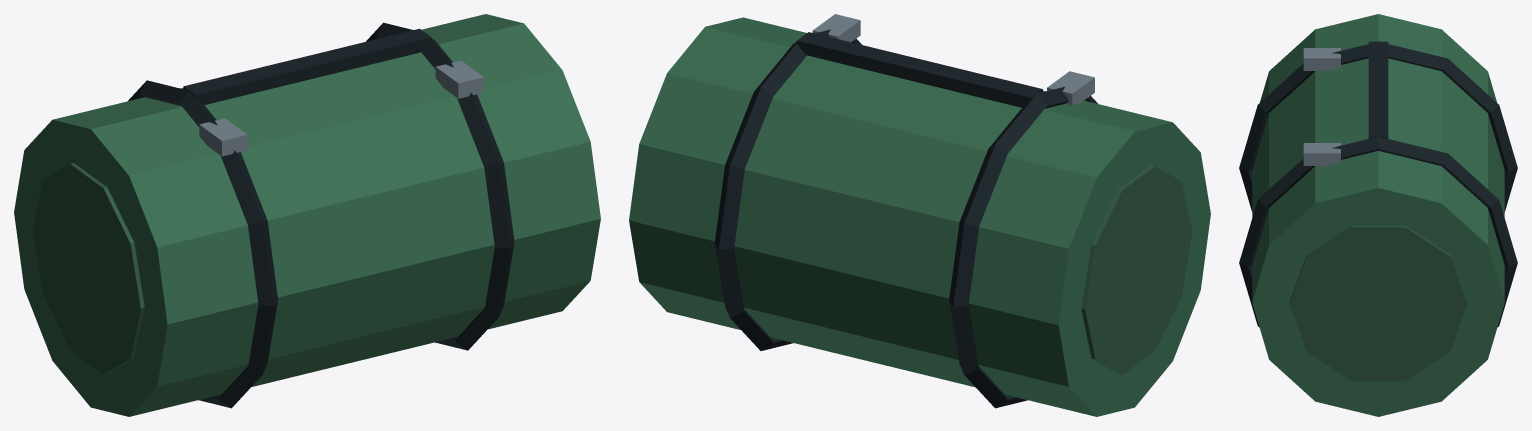
The model's file is b17_strapped_sleeping_bag_roll.glb.
The picture shows the model from 3 angles, left to right: view 1: azimuth 30°, elevation 25°; view 2: azimuth 150°, elevation 25°; view 3: azimuth 270°, elevation 25°; orthographic projection. The views are drawn at different scales.
Visible parts, largest first — view 1: b17_strapped_sleeping_bag_roll; view 2: b17_strapped_sleeping_bag_roll; view 3: b17_strapped_sleeping_bag_roll.
Part boxes in pixels (x1,y1,x2,y2): b17_strapped_sleeping_bag_roll: (14,14,600,416); b17_strapped_sleeping_bag_roll: (629,14,1210,416); b17_strapped_sleeping_bag_roll: (1239,14,1517,416).
Size of the model in its own units: 0.448 by 0.298 by 0.298.
